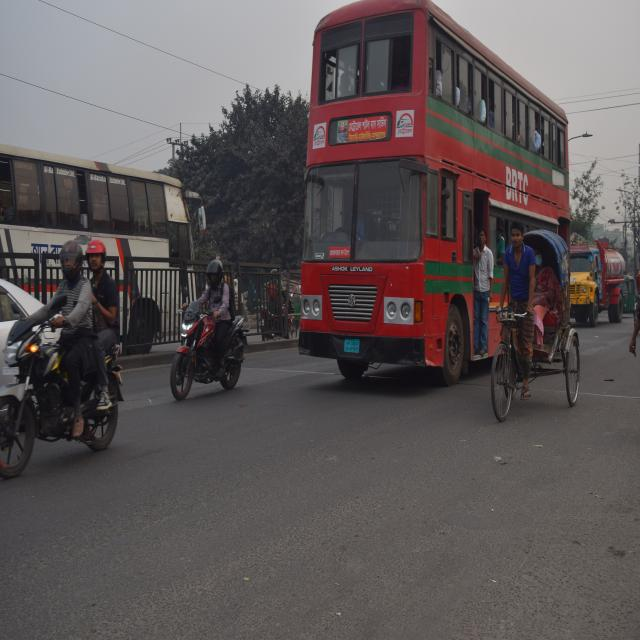bus: (292, 0, 579, 382), (0, 126, 211, 364)
motorbike: (0, 306, 133, 490), (170, 297, 255, 405)
truck: (570, 199, 626, 340)
